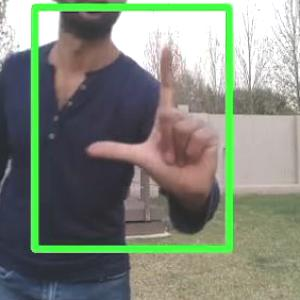land_hand: (77, 38, 224, 206)
